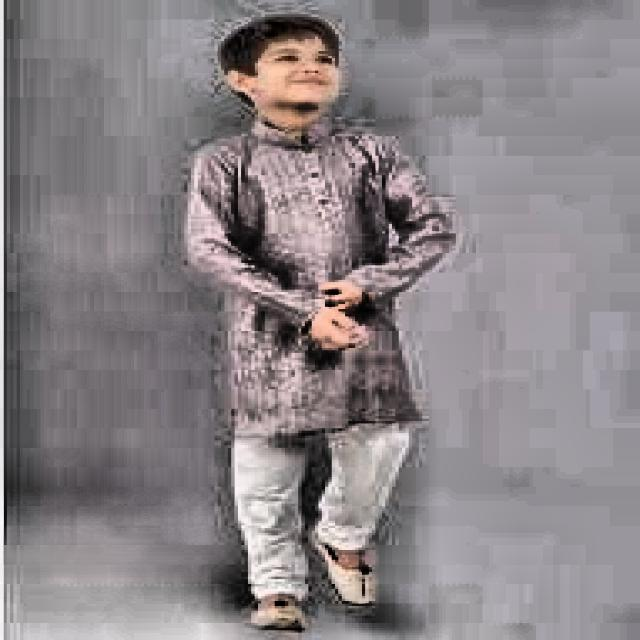Human: (158, 5, 446, 628)
